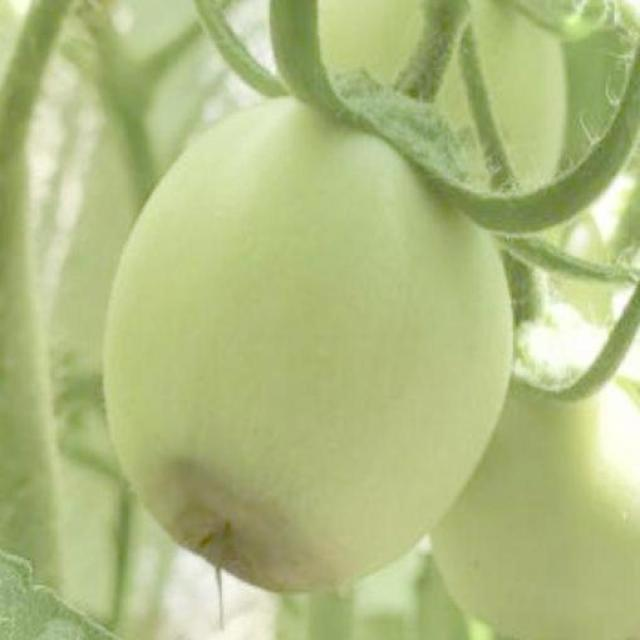Blossom End Rot Fruit: (81, 279, 237, 415)
